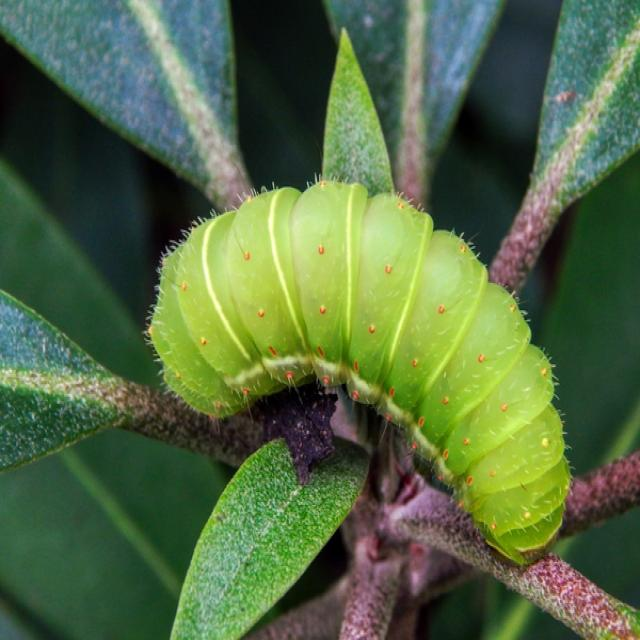caterpillar: (127, 154, 578, 586)
